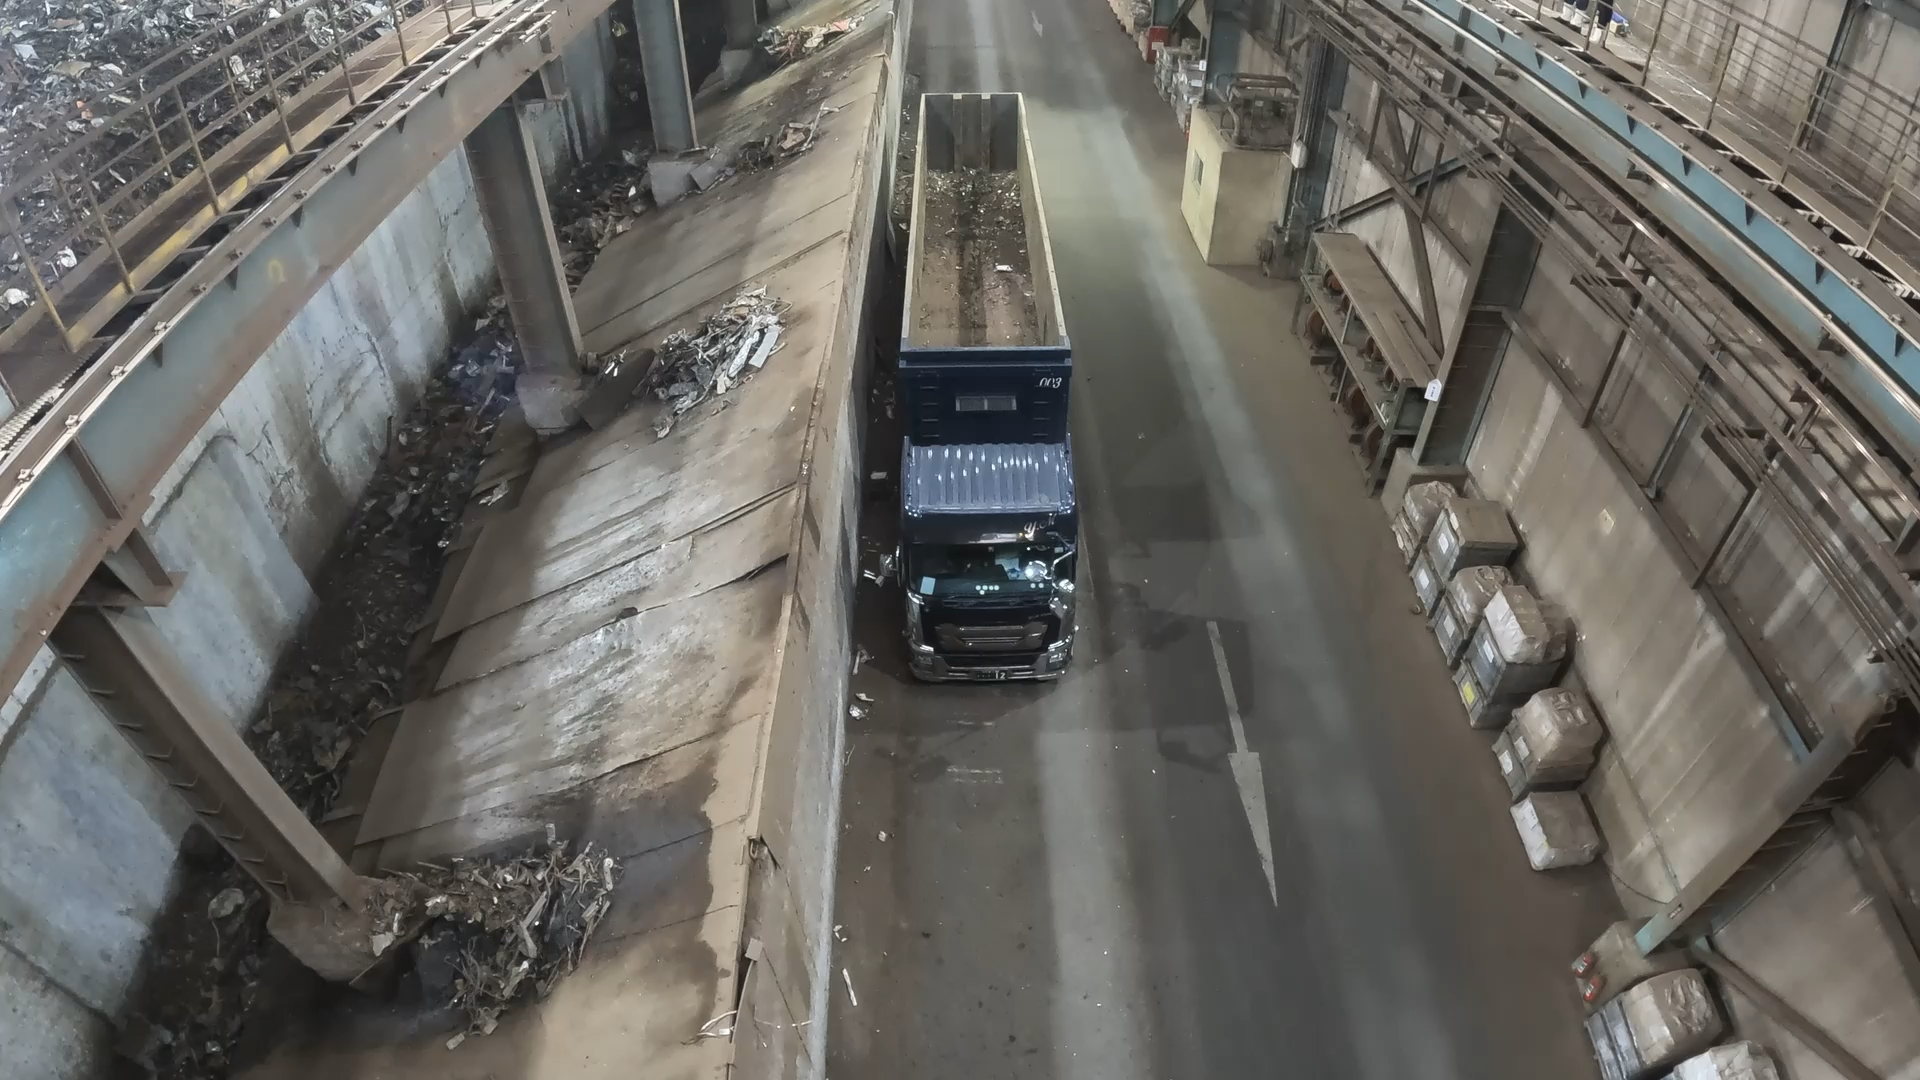truck: (903, 91, 1067, 349)
